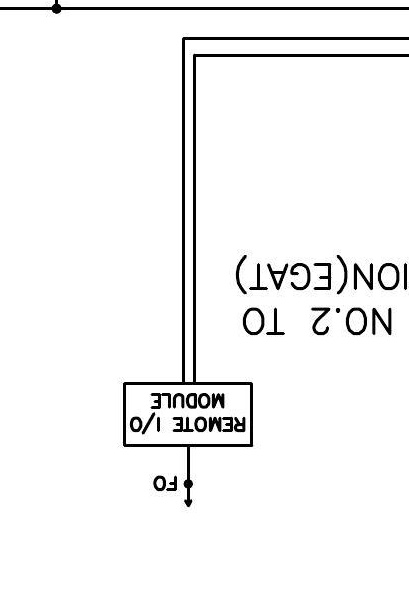remote_io_module: (123, 382, 254, 447)
